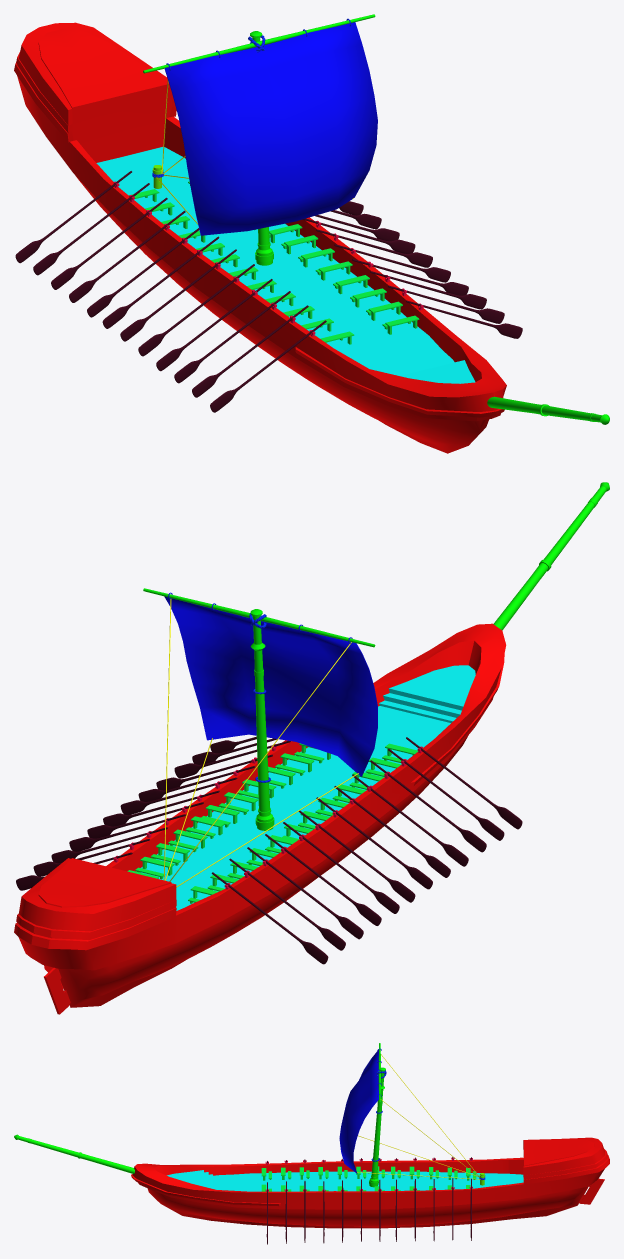
The model's file is GanzesSchiff1.fbx.
3 renders of one model, top to bottom at view 1: azimuth 30°, elevation 25°; view 2: azimuth 150°, elevation 25°; view 3: azimuth 270°, elevation 25°, orthographic. The views are drawn at different scales.
Parts seen in each view (by area): view 1: Schiffskörper.001; view 2: Schiffskörper.001; view 3: Schiffskörper.001.
Part boxes in pixels (x1,y1,x2,y2): Schiffskörper.001: (14,14,609,453); Schiffskörper.001: (14,482,609,1014); Schiffskörper.001: (14,1043,609,1244).
Size of the model in its own units: 1919 by 1790 by 6043.
